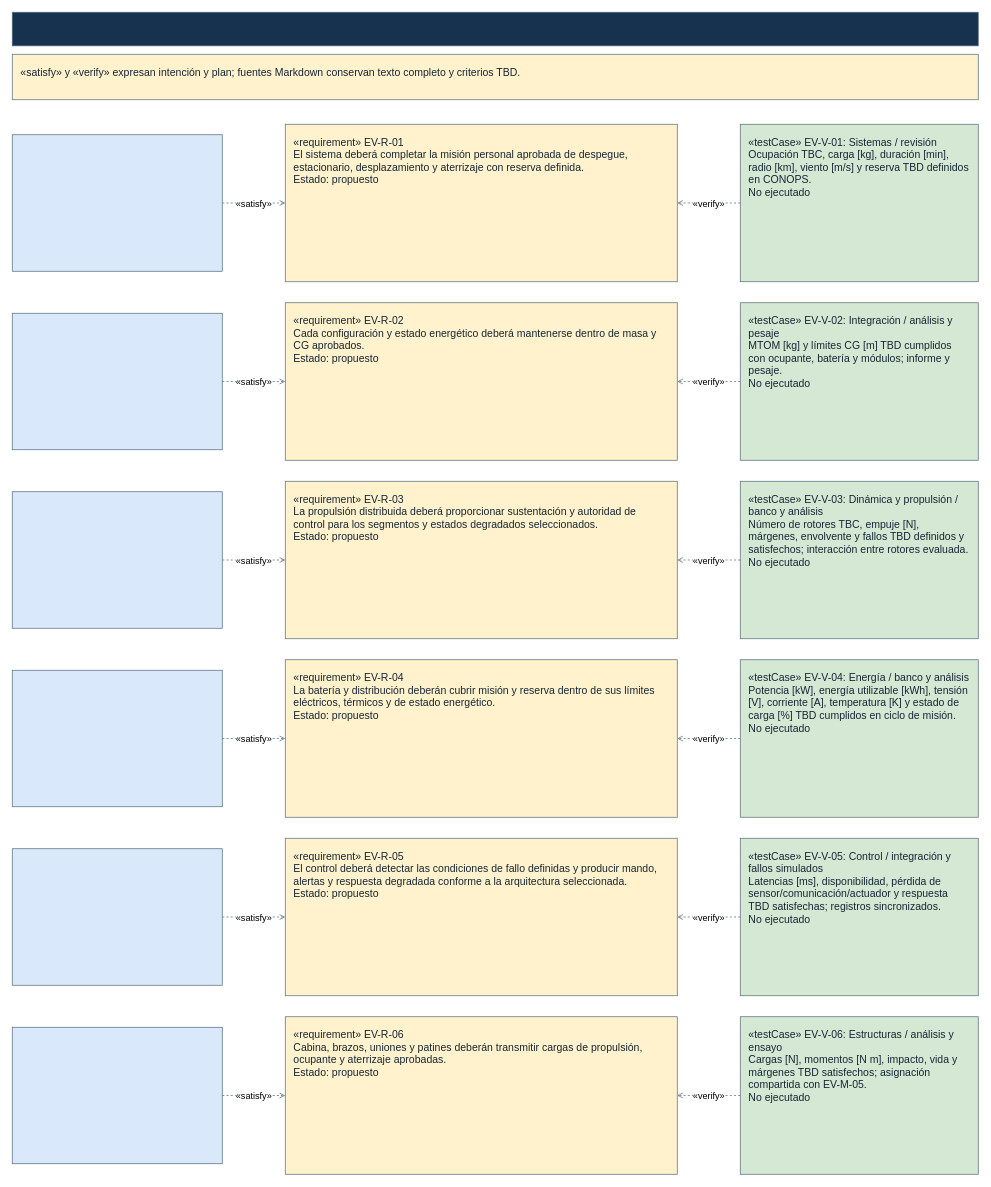
Image size: 991x1187. Some labels were removed from this diagram. The centre of each missing label's shape, as x and y in pixels:
"req [EV] Requisitos 1/2" goes at pixel 495 29.
"«block» EV-M-00 Asignación candidata" goes at pixel 117 202.
"«block» EV-M-00 EV-SIM-MB Asignación candidata" goes at pixel 117 381.
"«block» EV-M-01 EV-SIM-ST Asignación candidata" goes at pixel 117 1095.
"«block» EV-M-02 EV-SIM-MC, EV-SIM-FD Asignación candidata" goes at pixel 117 559.
"«block» EV-M-03 EV-SIM-EN, EV-SIM-TH Asignación candidata" goes at pixel 117 738.
"«block» EV-M-04 EV-SIM-CT Asignación candidata" goes at pixel 117 916.
